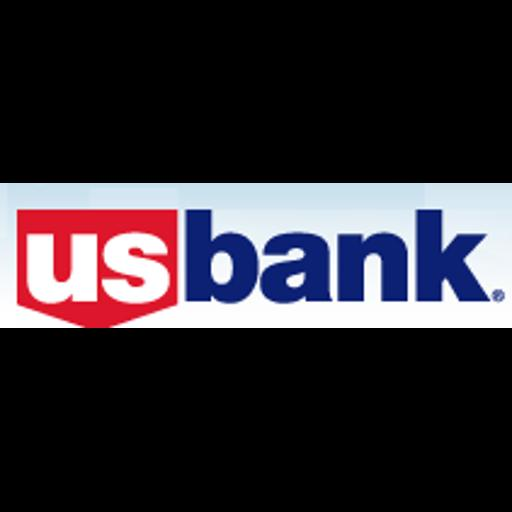U-S- Bank: (0, 183, 512, 328)
